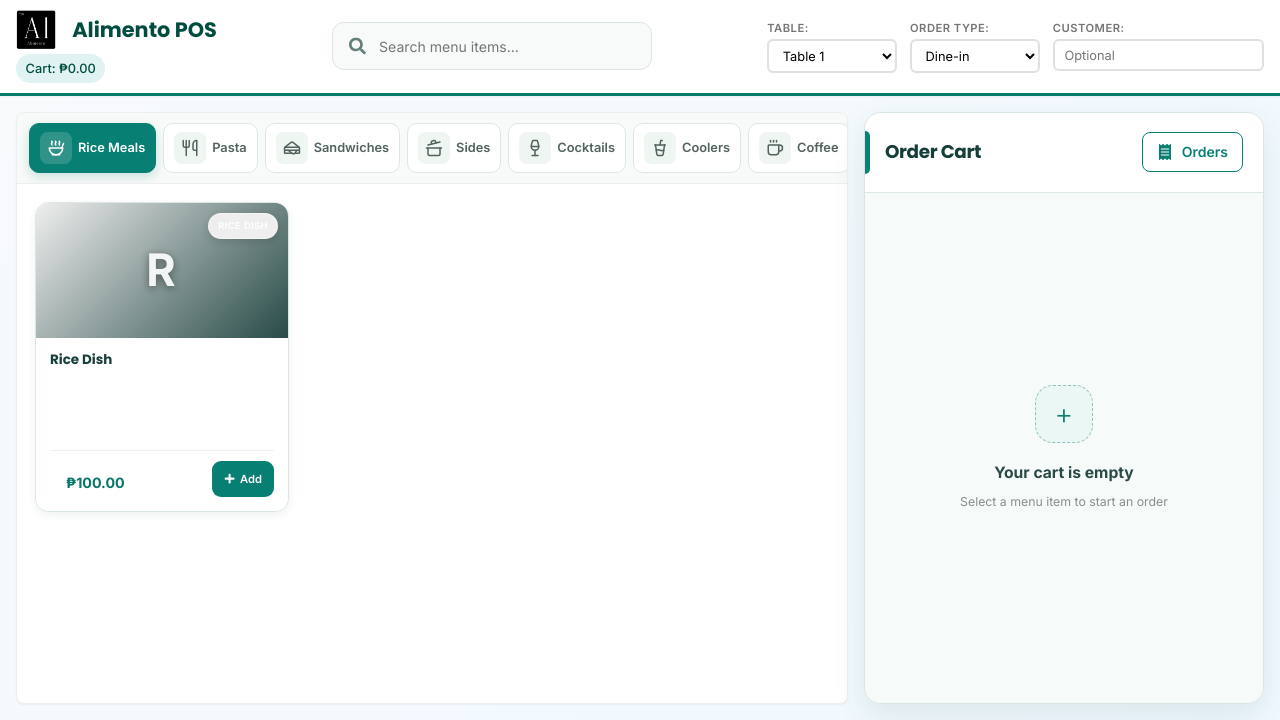
Scenario: browsing orders preserves the current cart
This screenshot has width=1280, height=720.
What coordinates should you click on to do the following:
click the button "Add"
I would click on:
 (243, 479)
Its box is top-left (212, 461), bottom-right (274, 497).
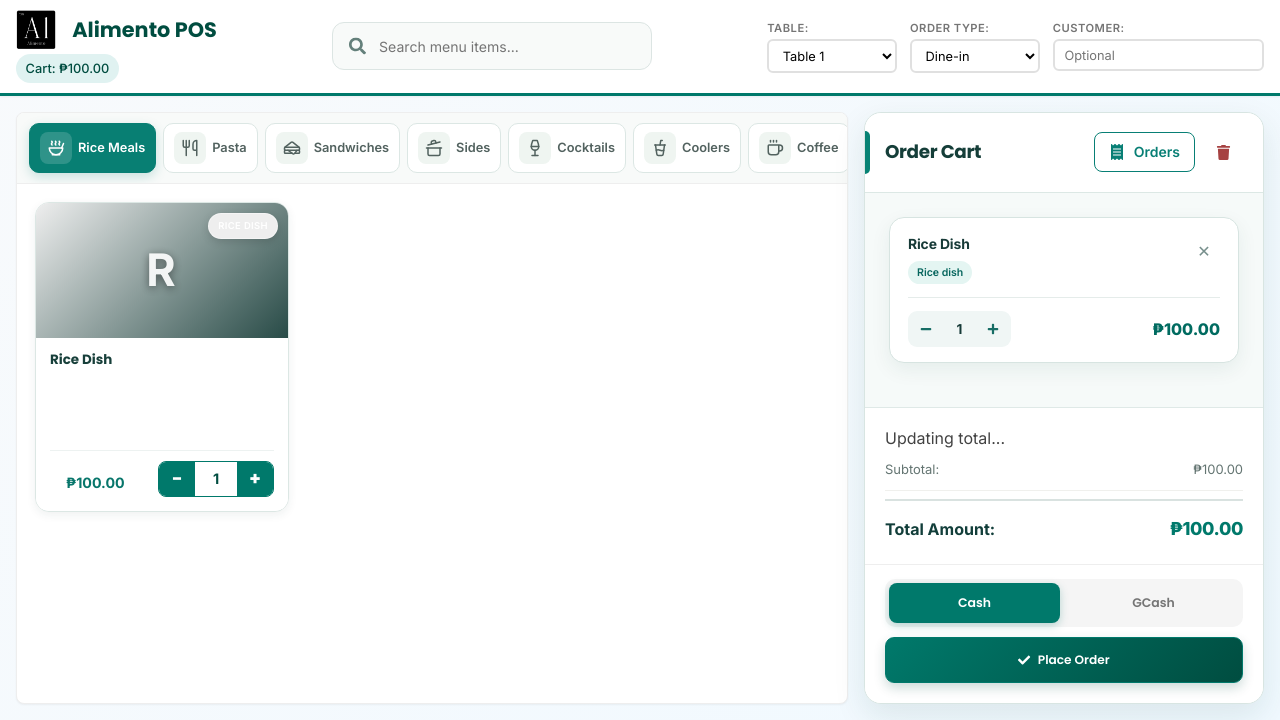
What coordinates should you click on to do the following:
click the button "Orders"
I would click on:
 (1144, 152)
Its box is top-left (1094, 132), bottom-right (1195, 172).
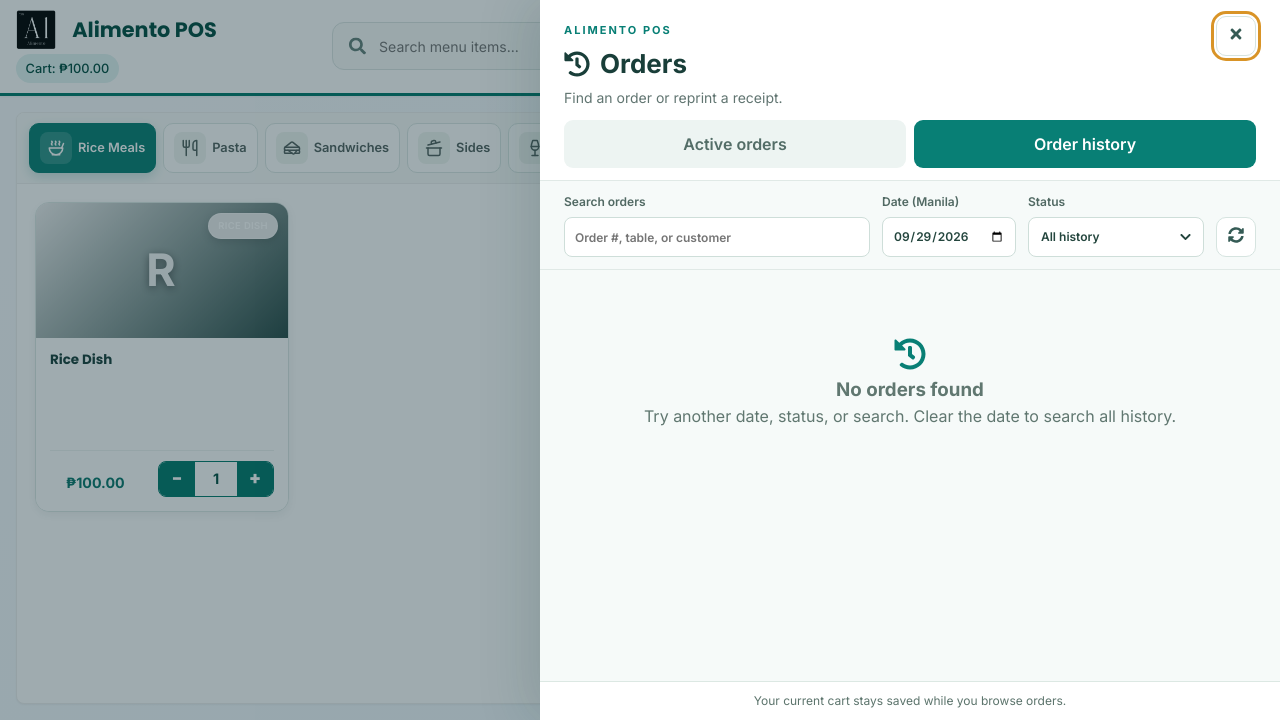
Result: the heading "No orders found" is shown at top-left (836, 378), bottom-right (984, 401)
What coordinates should you click on to do the following:
click the button named "Close orders"
I would click on:
 (1236, 36)
Its box is top-left (1216, 16), bottom-right (1256, 56).
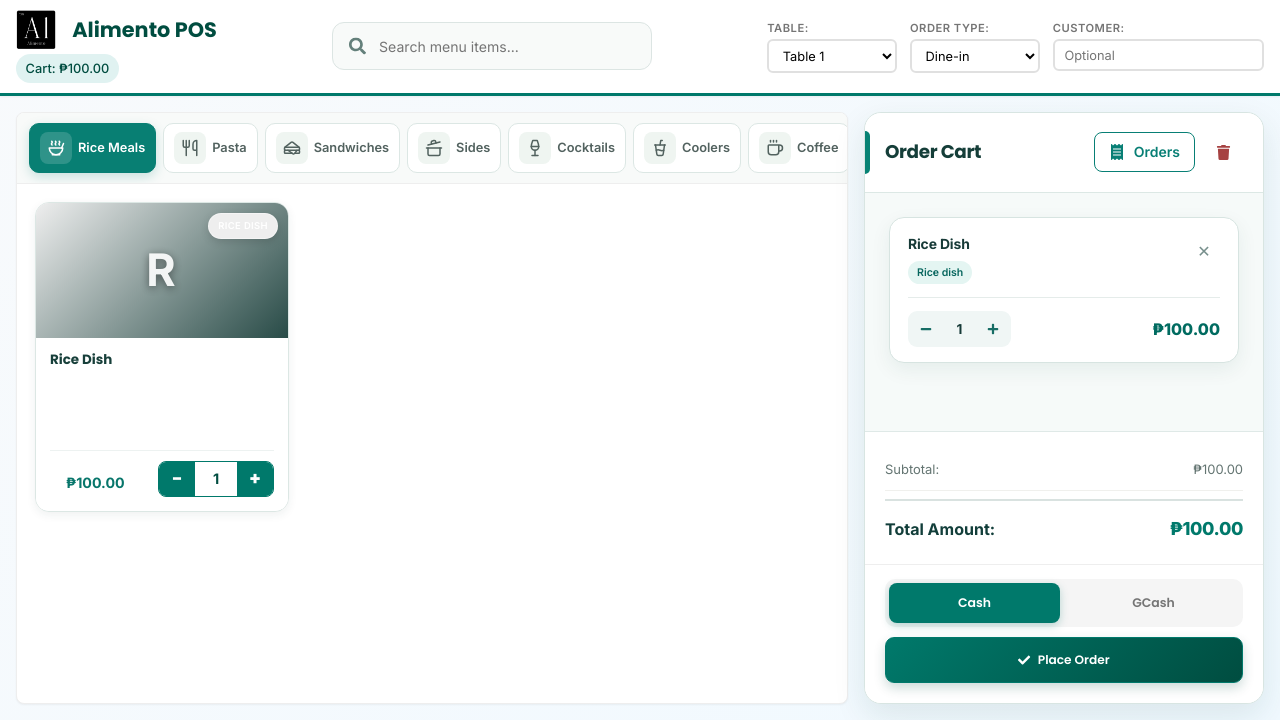
Expected: the text "Your cart is empty" is not shown
Result: the button "Place Order" is shown at top-left (885, 637), bottom-right (1243, 683)
Result: the dialog is gone
